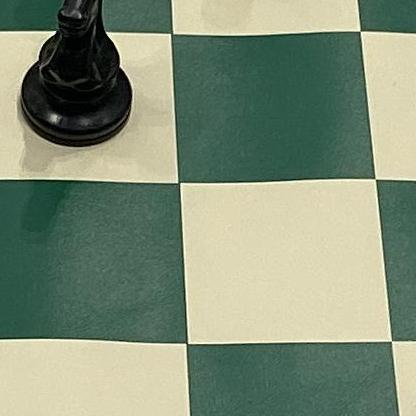black-knight: (14, 0, 141, 144)
